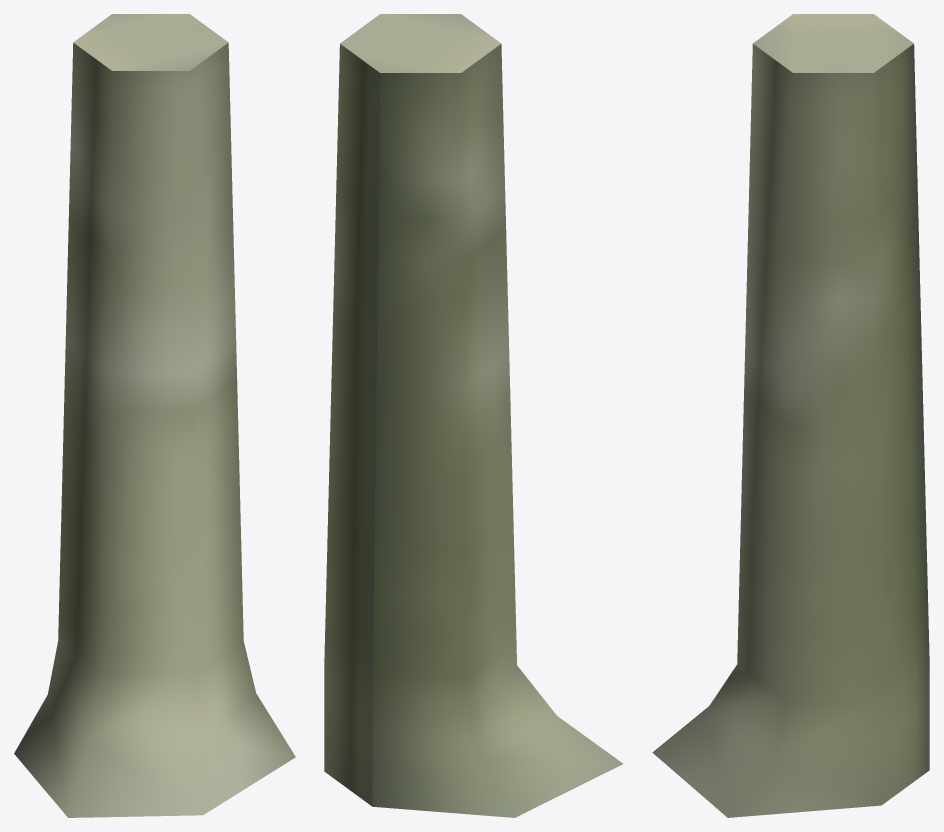
Rendered from guchengqishituan_BOSS_D_01_d.FBX.
The picture shows the model from 3 angles, left to right: view 1: azimuth 30°, elevation 25°; view 2: azimuth 150°, elevation 25°; view 3: azimuth 270°, elevation 25°; orthographic projection. The views are drawn at different scales.
Visible parts, largest first — view 1: guchengqishituan_BOSS_D_01_d; view 2: guchengqishituan_BOSS_D_01_d; view 3: guchengqishituan_BOSS_D_01_d.
Part boxes in pixels (x1=…): guchengqishituan_BOSS_D_01_d: x1=14, y1=14, x2=295, y2=817; guchengqishituan_BOSS_D_01_d: x1=324, y1=14, x2=623, y2=817; guchengqishituan_BOSS_D_01_d: x1=652, y1=14, x2=929, y2=817.
Size of the model in its own units: 16.34 by 46.91 by 16.23.
